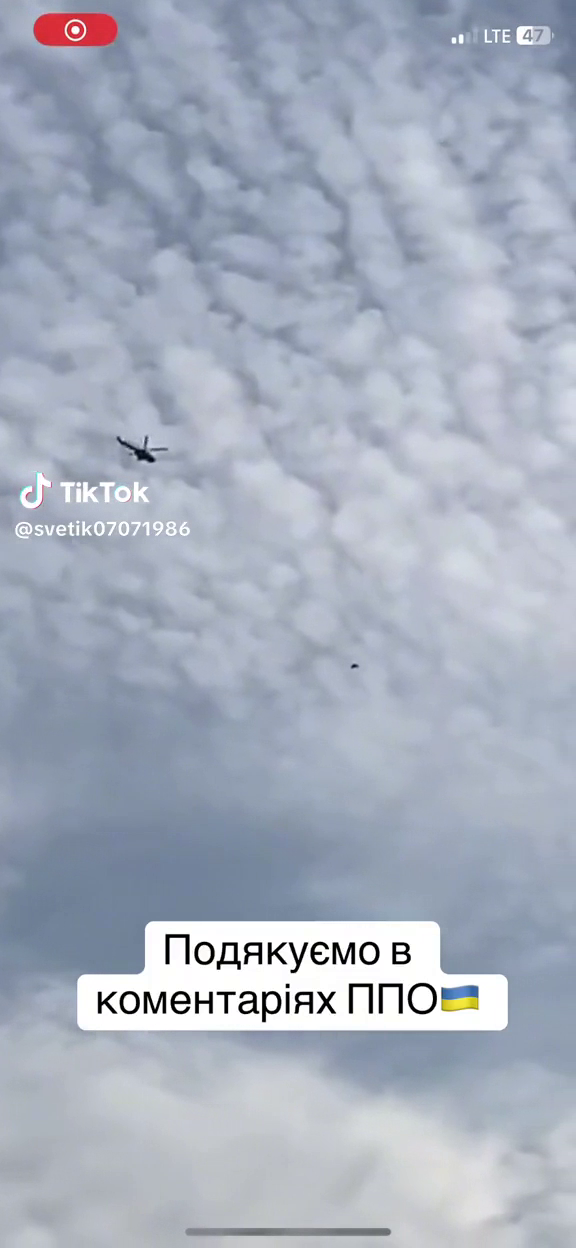not_drone: (114, 432, 171, 466)
